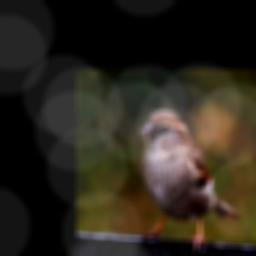Sparrow: (136, 107, 239, 255)
